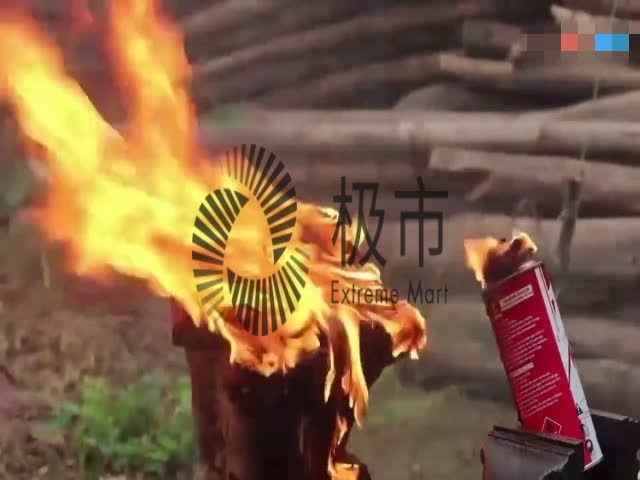fire: (8, 4, 408, 382), (207, 198, 433, 426), (462, 229, 537, 286)
